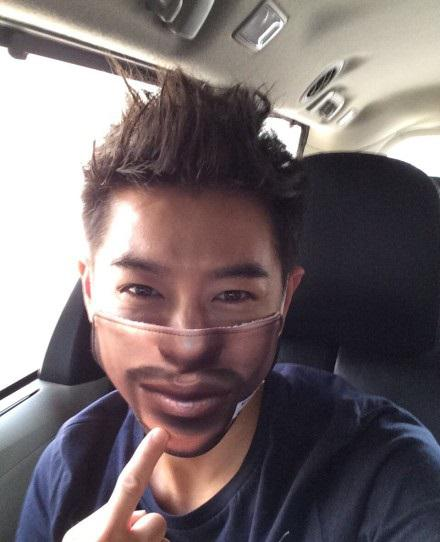OK: (95, 254, 289, 448)
